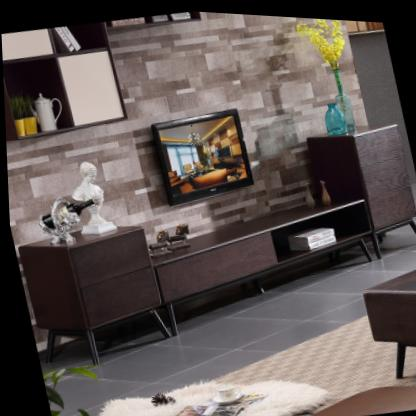TV stand: (16, 118, 416, 365)
